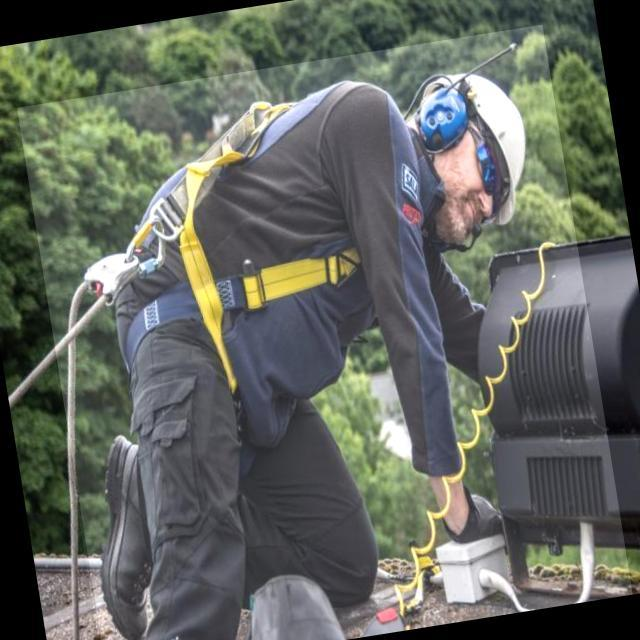Gloves: (433, 466, 519, 562)
Helmet: (408, 48, 551, 242)
Human: (17, 24, 633, 640)
Safety Boot: (65, 418, 187, 640)
